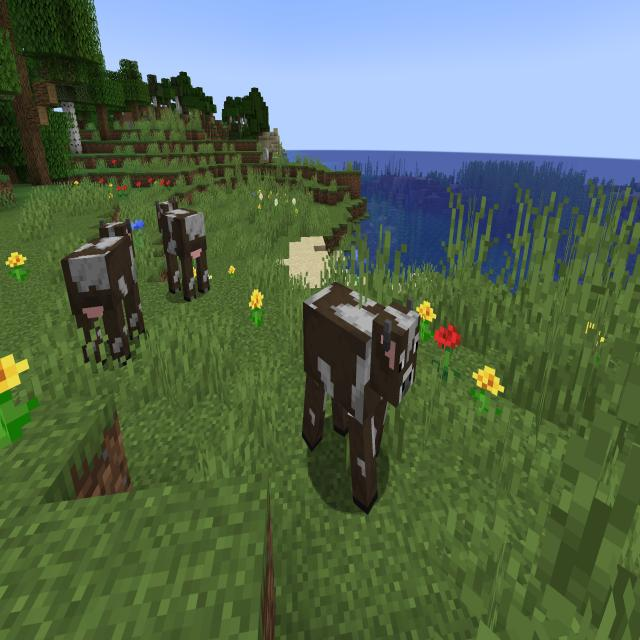cow: (292, 274, 430, 524), (48, 206, 154, 373), (152, 177, 216, 310)
